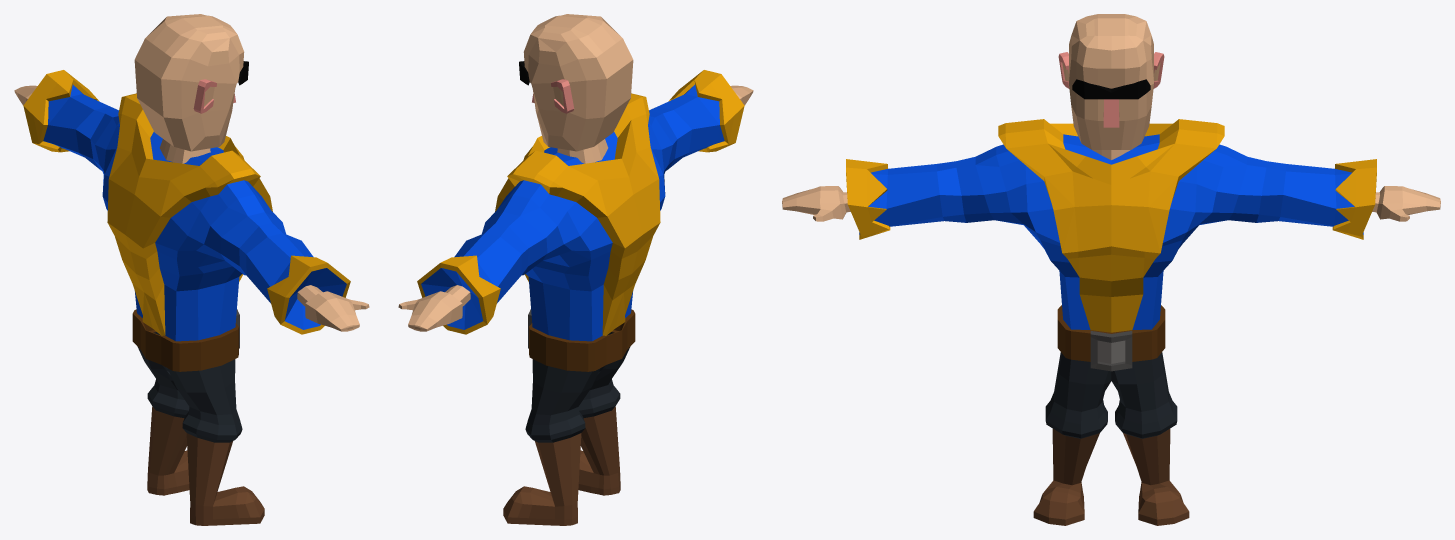
File: mage.fbx
The picture shows the model from 3 angles, left to right: view 1: azimuth 30°, elevation 25°; view 2: azimuth 150°, elevation 25°; view 3: azimuth 270°, elevation 25°; orthographic projection.
Parts seen in each view (by area): view 1: Body_Mage_Merged, BasicHead; view 2: Body_Mage_Merged, BasicHead; view 3: Body_Mage_Merged, BasicHead.
Boxes of the visible parts, x1,y1,x2,y2 form: Body_Mage_Merged: (14, 70, 369, 525); BasicHead: (134, 14, 248, 163); Body_Mage_Merged: (398, 70, 753, 525); BasicHead: (519, 14, 633, 163); Body_Mage_Merged: (782, 119, 1440, 525); BasicHead: (1058, 14, 1164, 159).
Bounding box in the file's own units: 105 × 382 × 472.
